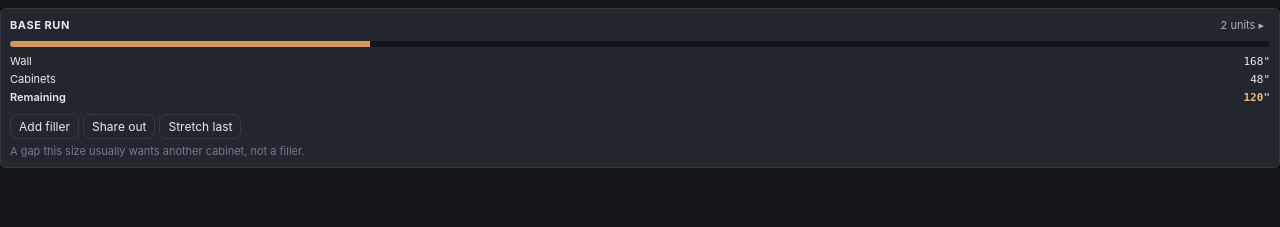
Test: RunStatusBar breakdown › lists each unit in the run once opened
Click the button "2 units ▸": (1242, 26) [1215,16,1270,36]
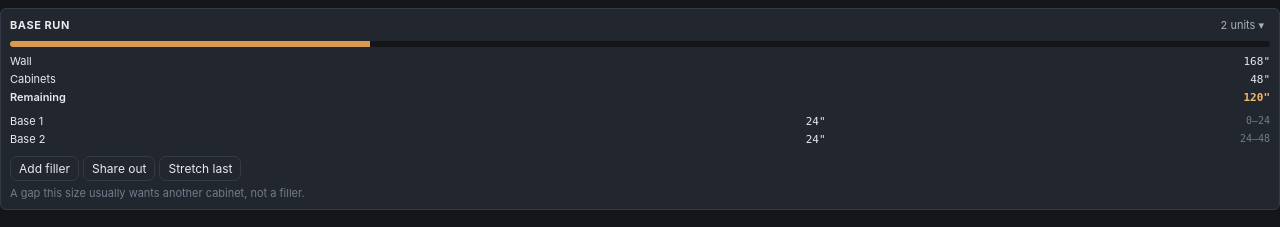
Expected: the text "Base 1" is shown, [10,114,43,128]
Expected: the text "Base 2" is shown, [10,132,45,146]
